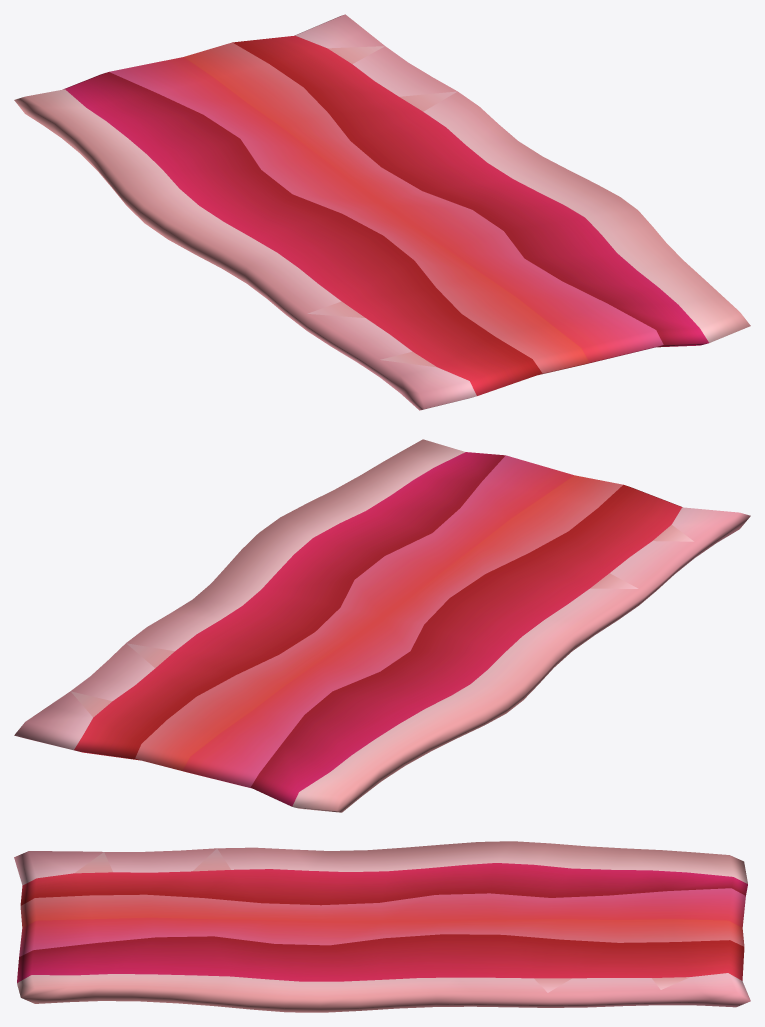
3 renders of one model, top to bottom at view 1: azimuth 30°, elevation 25°; view 2: azimuth 150°, elevation 25°; view 3: azimuth 270°, elevation 25°, orthographic. The views are drawn at different scales.
Parts seen in each view (by area): view 1: 9-4; view 2: 9-4; view 3: 9-4.
Boxes of the visible parts, left/top/right/bottom form: 9-4: left=14, top=14, right=750, bottom=410; 9-4: left=14, top=439, right=750, bottom=812; 9-4: left=14, top=841, right=750, bottom=1012.
Size of the model in its own units: 8.98 by 0.6487 by 17.63.
